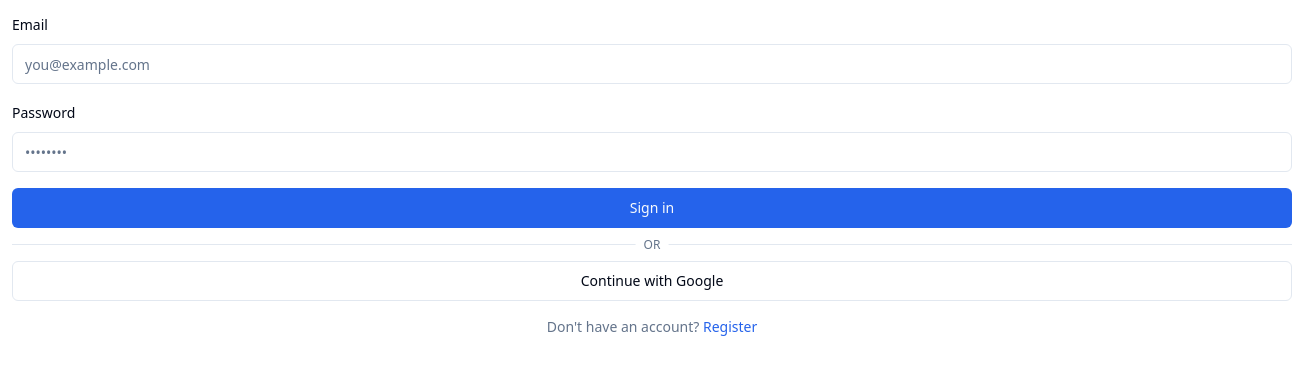
it: LoginForm › shows server error when login API rejects
Step 1. Type "test@example.com" into the field with placeholder "you@example.com" → (652, 64), box top-left (12, 44), bottom-right (1292, 84)
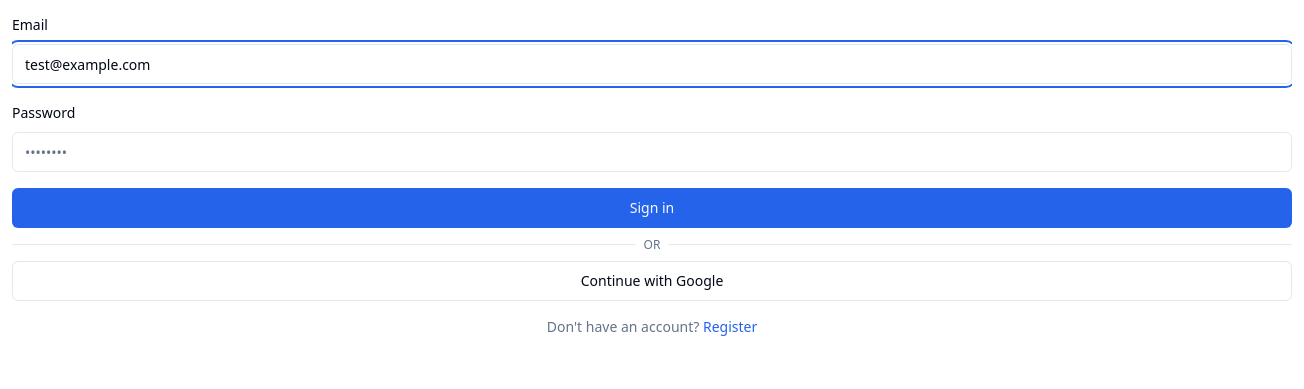
Step 2. Type "WrongPass1" into the password field with placeholder "••••••••" → (652, 152), box top-left (12, 132), bottom-right (1292, 172)
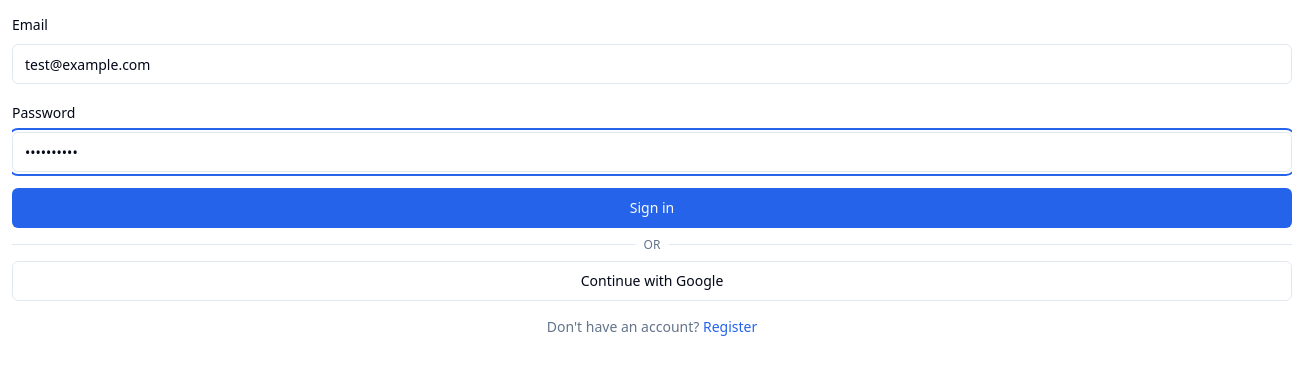
Step 3. Click the button "Sign in" → (652, 208), box top-left (12, 188), bottom-right (1292, 228)
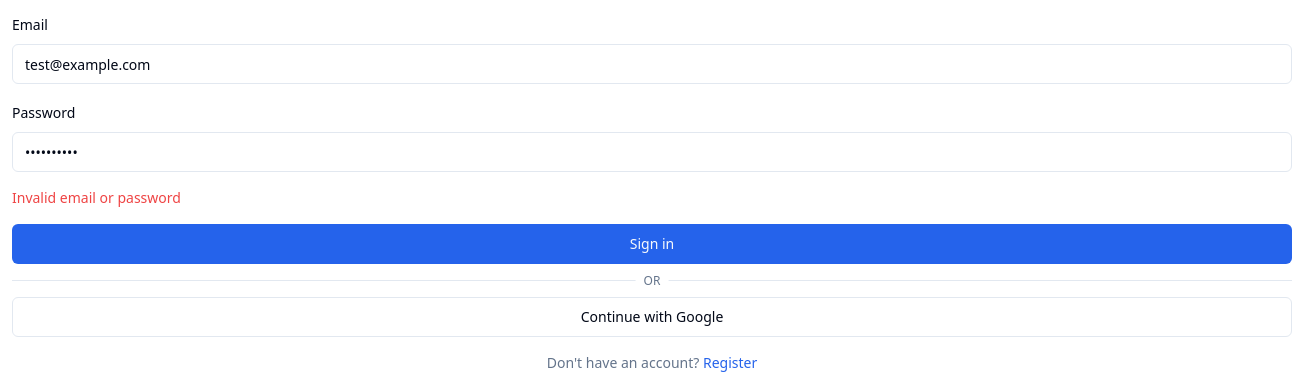
Result: the text "Invalid email or password" is shown at top-left (12, 188), bottom-right (181, 207)
